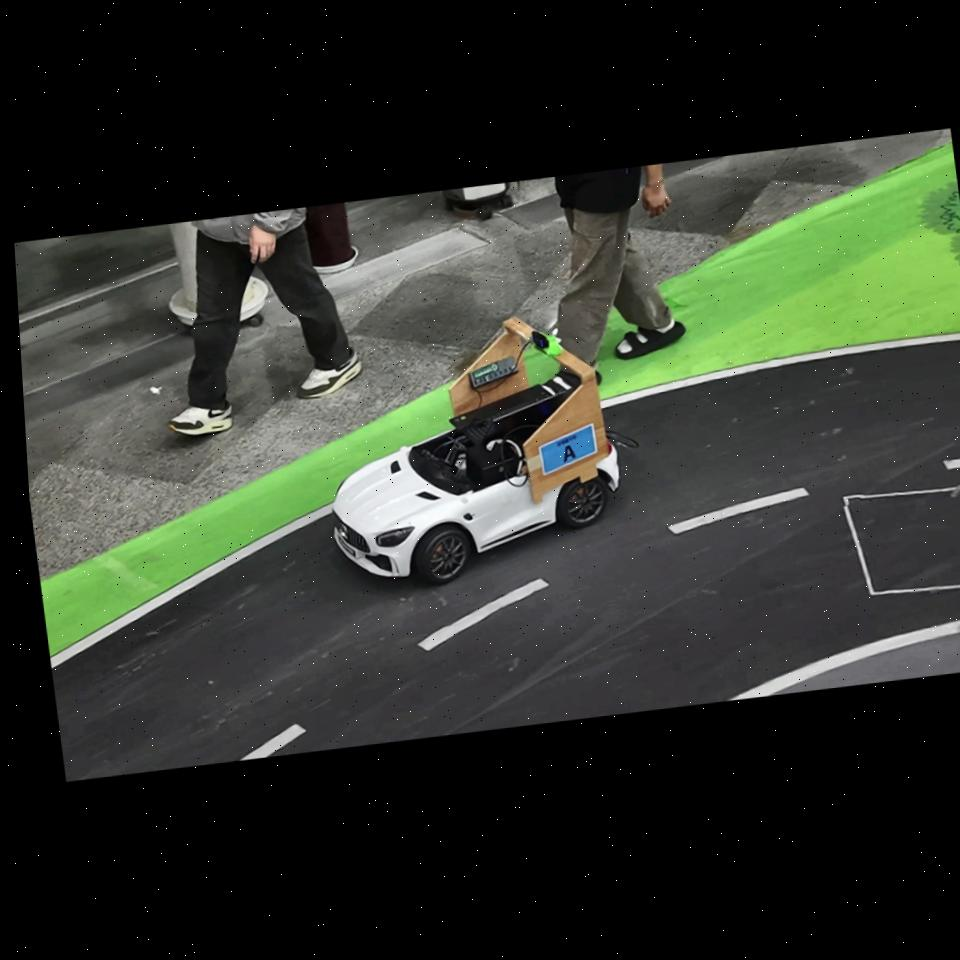broken_line: (418, 579, 548, 650), (669, 487, 809, 534), (240, 724, 306, 760), (944, 459, 960, 470)
